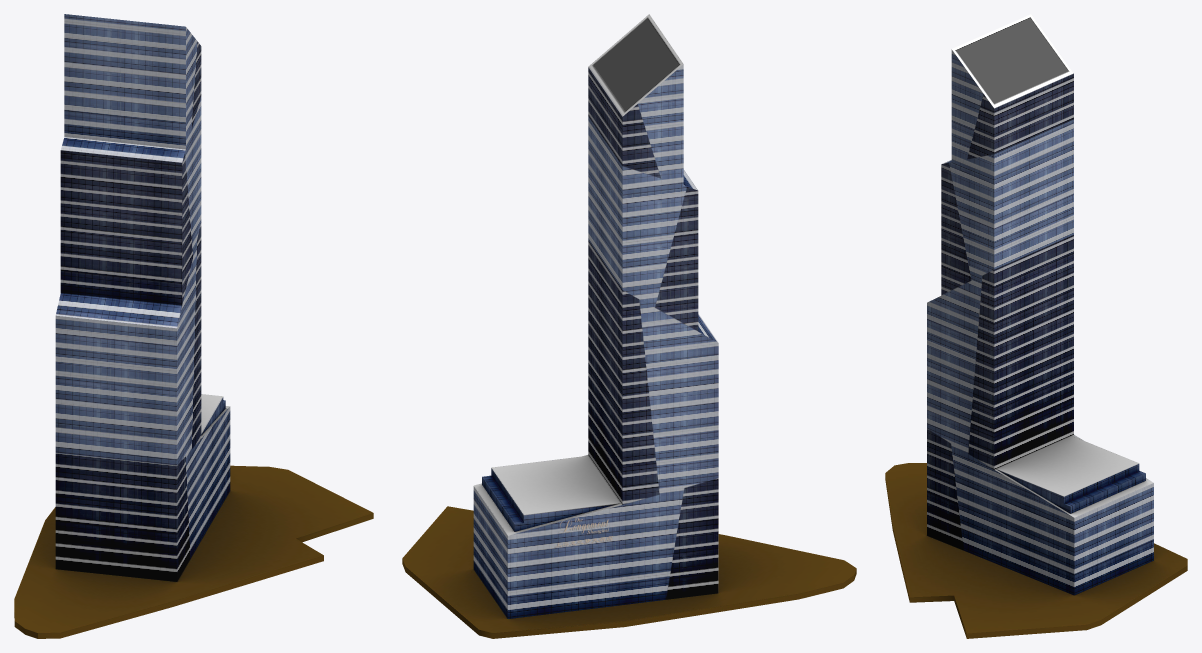
Rendered from shlzm.gltf.
3 renders of one model, left to right at view 1: azimuth 30°, elevation 25°; view 2: azimuth 150°, elevation 25°; view 3: azimuth 270°, elevation 25°, orthographic. The views are drawn at different scales.
Visible parts, largest first — view 1: pCube2, pCube1, pCube3; view 2: pCube2, pCube1, pCube3; view 3: pCube2, pCube1, pCube3.
Part boxes in pixels (x1,y1,x2,y2): pCube2: (55, 14, 230, 581); pCube1: (14, 465, 373, 638); pCube3: (201, 394, 225, 435); pCube2: (473, 14, 718, 618); pCube1: (402, 506, 856, 638); pCube3: (482, 455, 620, 531); pCube2: (927, 14, 1153, 595); pCube1: (885, 463, 1187, 638); pCube3: (996, 435, 1145, 513).
Bounding box in the file's own units: 17.15 × 23.54 × 12.86.
Materials: 1 (1 with a texture image).
